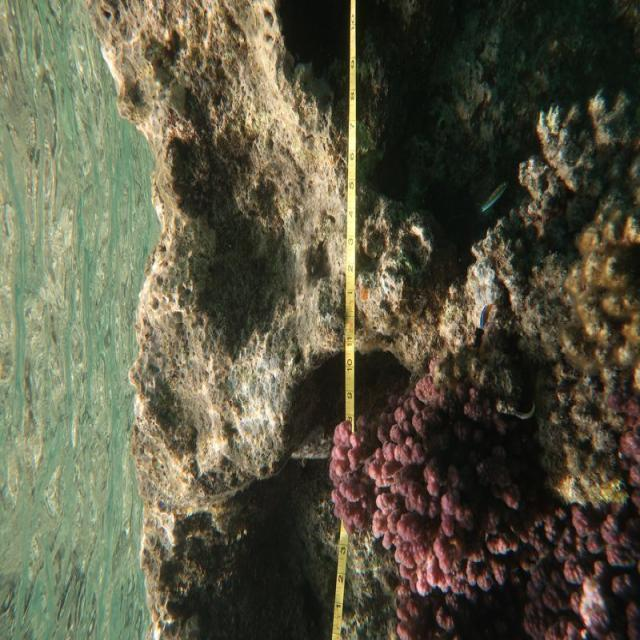Healthy Coral: (330, 386, 630, 640)
